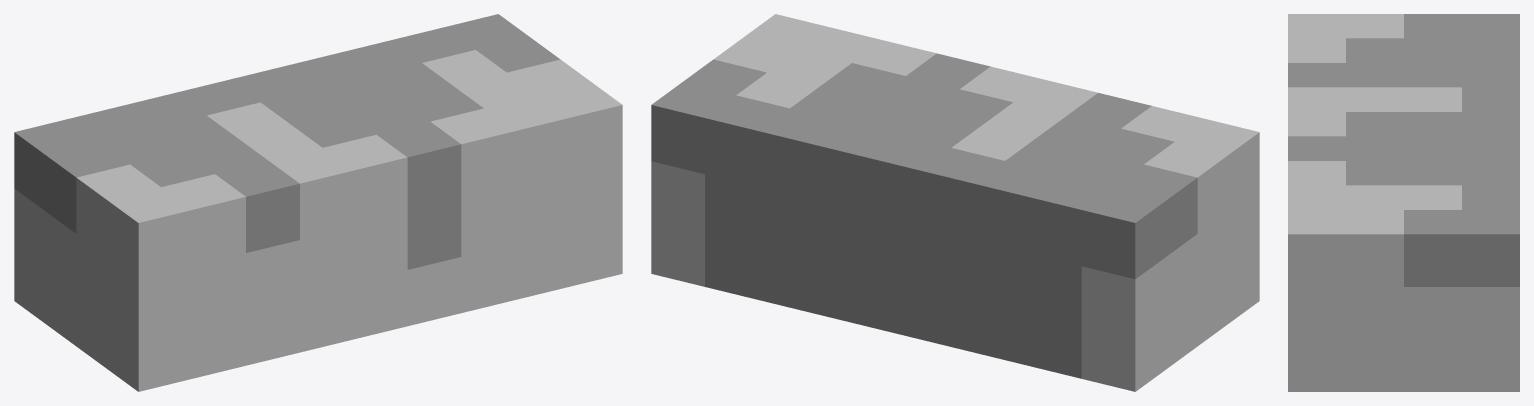
Rendered from ConstructionMaterials-83.obj.
The picture shows the model from 3 angles, left to right: view 1: azimuth 30°, elevation 25°; view 2: azimuth 150°, elevation 25°; view 3: azimuth 270°, elevation 25°; orthographic projection. The views are drawn at different scales.
Bounding box in the file's own units: 0.9 × 0.3 × 0.4.
1 material, 1 textured.
